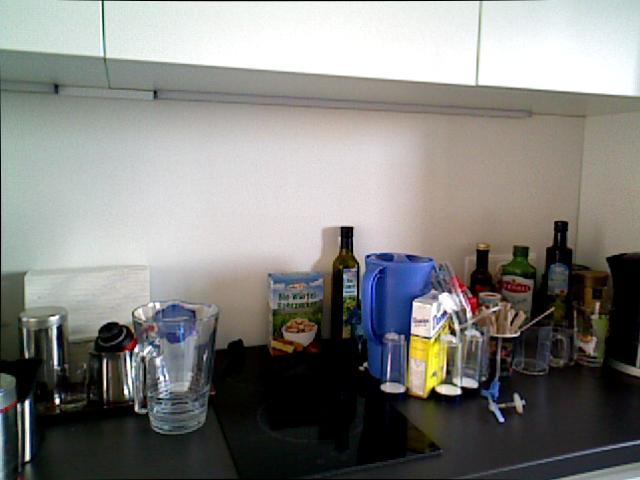bench: (498, 245, 538, 355), (542, 220, 576, 333), (330, 225, 360, 343), (469, 242, 495, 335)
bird: (281, 321, 317, 346)
handbag: (129, 290, 212, 440), (359, 250, 436, 372), (512, 320, 571, 378), (476, 317, 526, 378), (572, 297, 612, 369), (379, 330, 409, 395), (433, 331, 462, 397), (461, 323, 482, 393)
